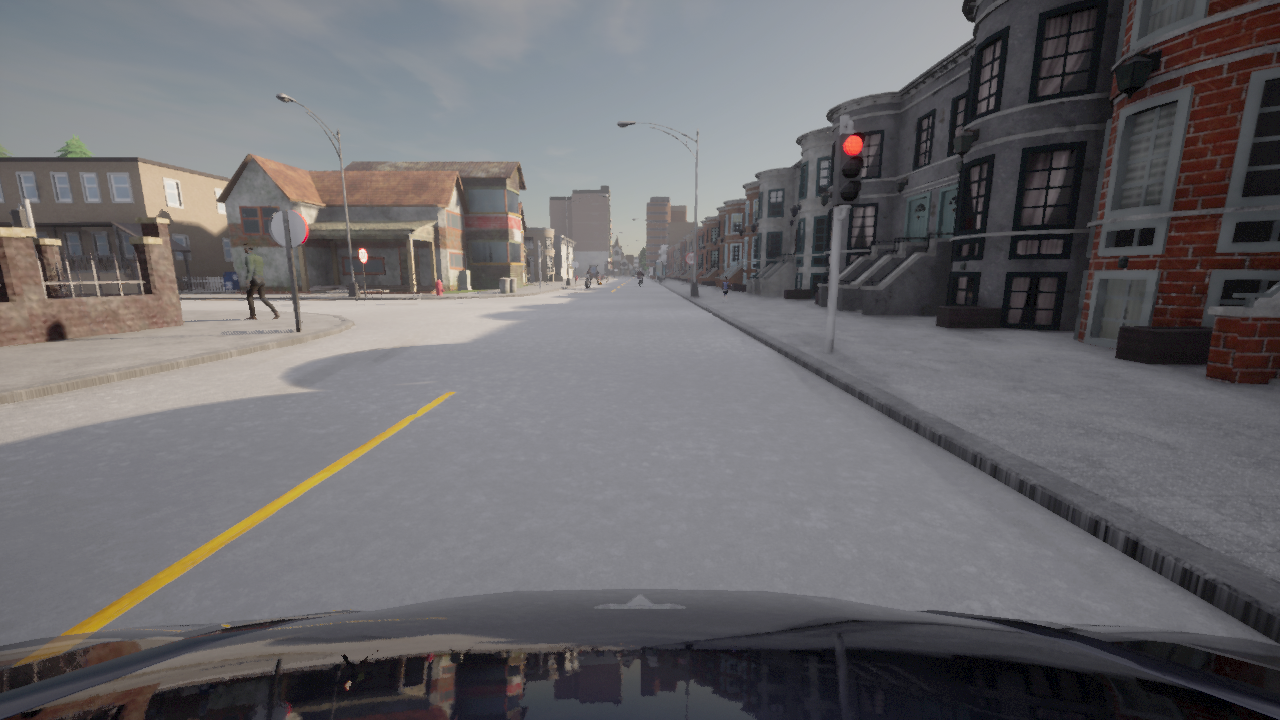cyclist: (0, 588, 1279, 719), (583, 274, 590, 288), (603, 274, 609, 283), (638, 274, 642, 286), (596, 274, 600, 285)
pedestrian: (242, 243, 280, 320), (720, 276, 730, 303)
